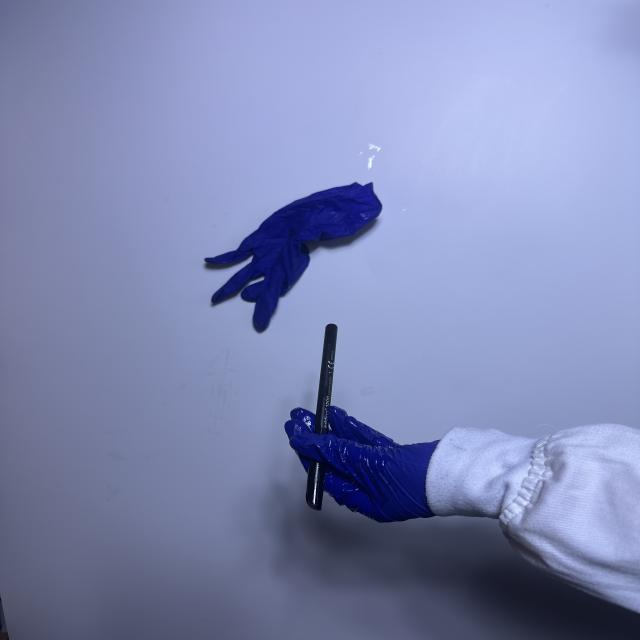gloves_contaminated: (286, 407, 438, 522)
